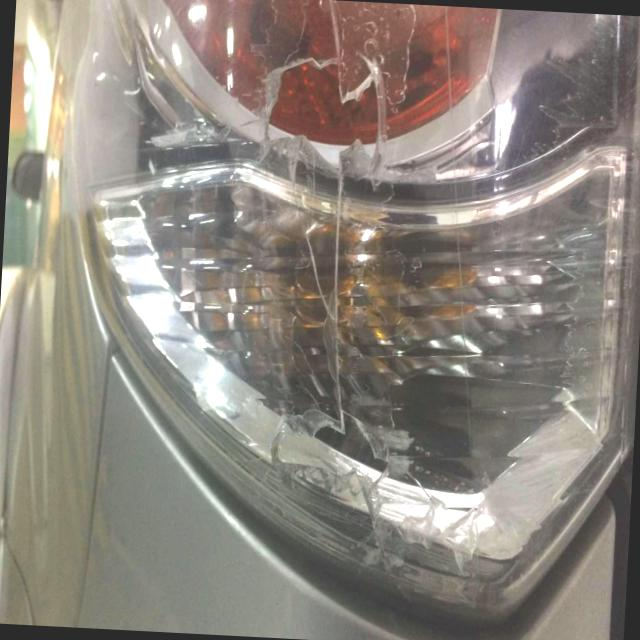Phare abime: (265, 387, 540, 609), (235, 38, 413, 377)
